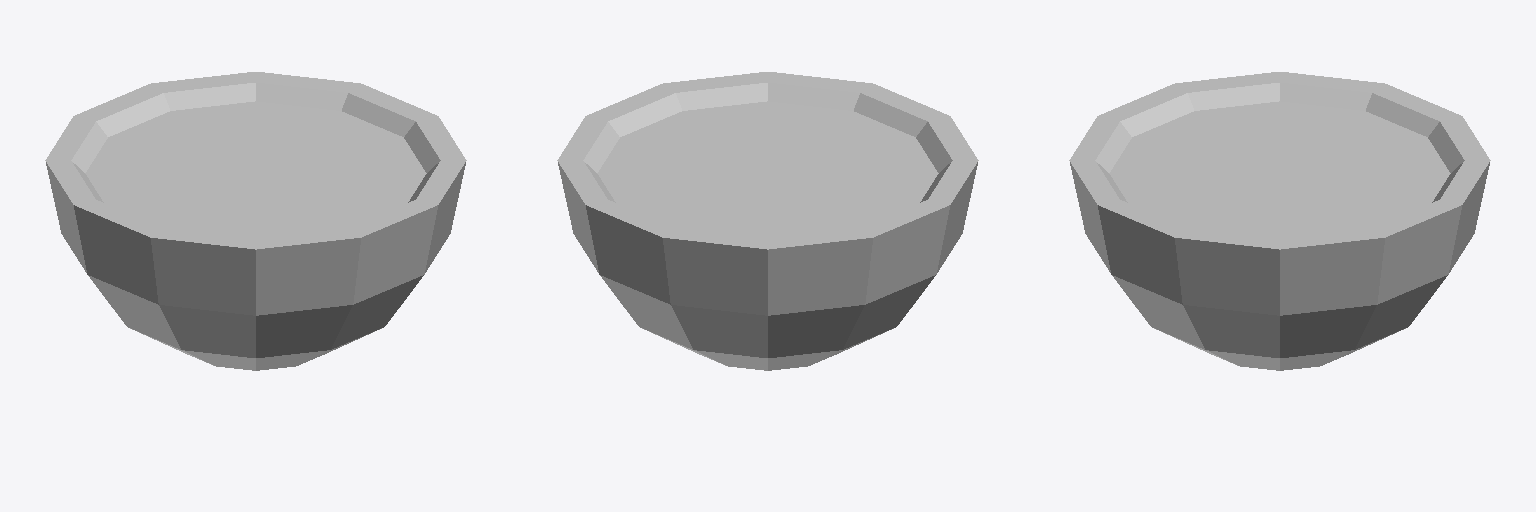
File: bowl.obj
3 views of the same model, side by side, from view 1: azimuth 30°, elevation 25°; view 2: azimuth 150°, elevation 25°; view 3: azimuth 270°, elevation 25° (orthographic).
Visible parts, largest first — view 1: Cylinder_Cylinder.001; view 2: Cylinder_Cylinder.001; view 3: Cylinder_Cylinder.001.
Part boxes in pixels (x1,y1,x2,y2): Cylinder_Cylinder.001: (45, 72, 466, 370); Cylinder_Cylinder.001: (557, 72, 978, 370); Cylinder_Cylinder.001: (1069, 72, 1490, 370).
Size of the model in its own units: 2 by 1 by 2.